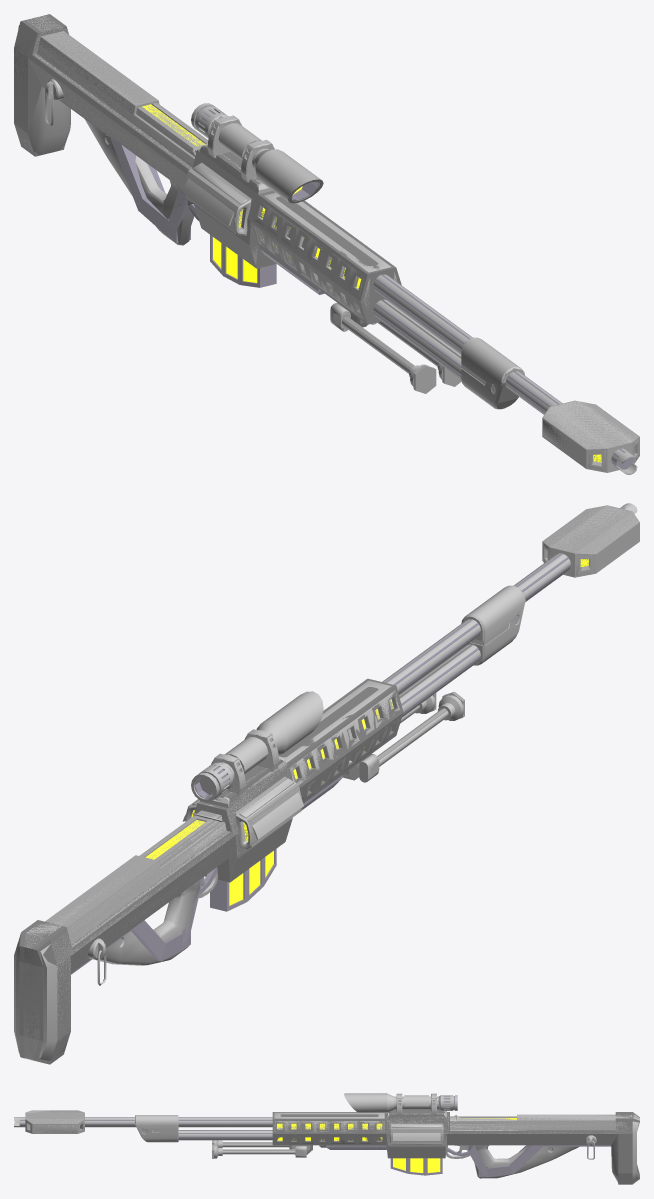
The model's file is riflle.fbx.
3 views of the same model, one above another, from view 1: azimuth 30°, elevation 25°; view 2: azimuth 150°, elevation 25°; view 3: azimuth 270°, elevation 25° (orthographic). The views are drawn at different scales.
Visible parts, largest first — view 1: rifle2, rifle2hires; view 2: rifle2, rifle2hires; view 3: rifle2, rifle2hires.
Part boxes in pixels (box(x1,y1,x2,y2)): rifle2: box(14, 14, 639, 472); rifle2hires: box(14, 16, 639, 474); rifle2: box(19, 505, 639, 1064); rifle2hires: box(14, 503, 637, 1060); rifle2: box(19, 1093, 639, 1184); rifle2hires: box(14, 1093, 639, 1182).
Size of the model in its own units: 31.46 by 66.26 by 435.
